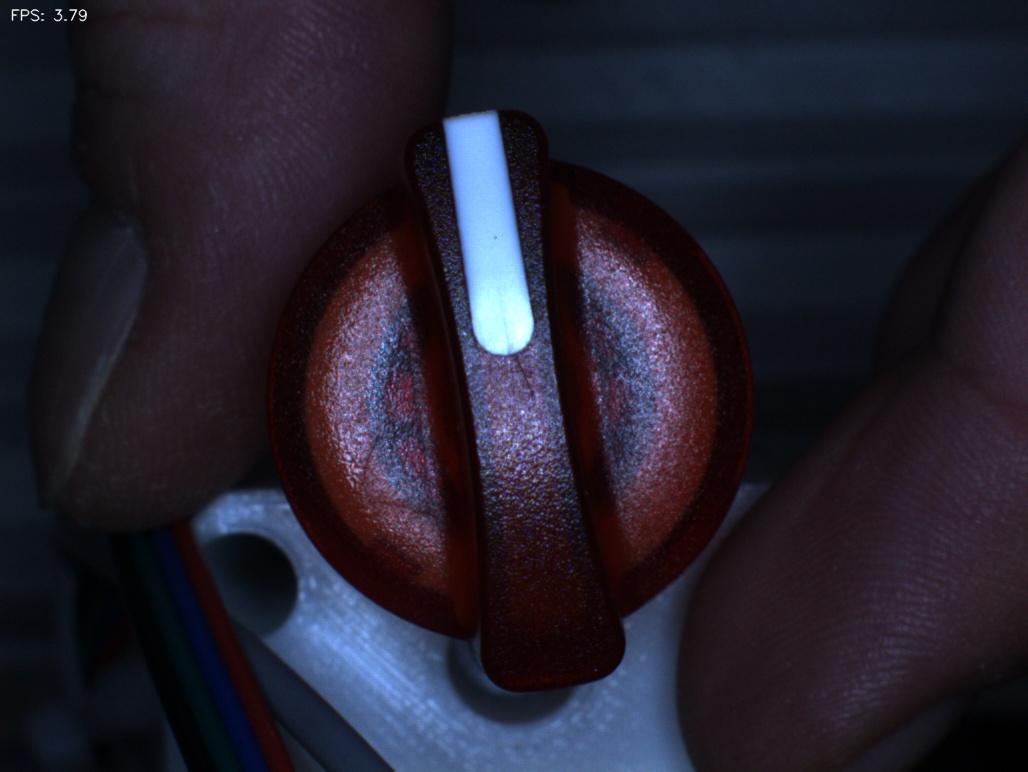PointNoir: (465, 203, 523, 270)
